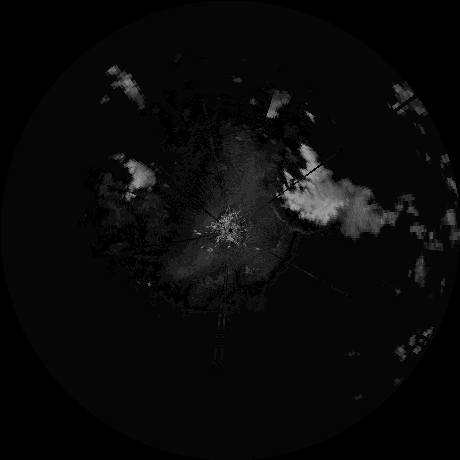frontgust: (271, 205, 308, 234)
